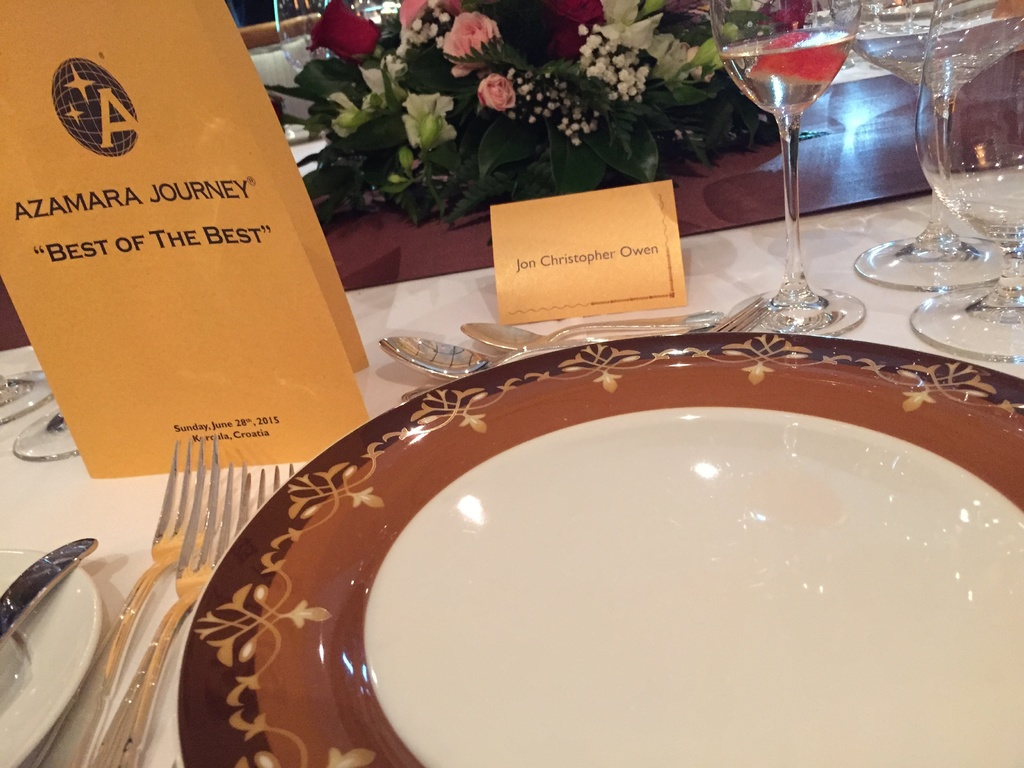plate: (168, 320, 1023, 766)
